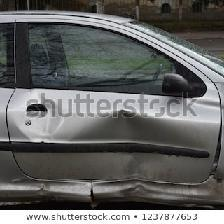dent: (1, 31, 214, 200)
